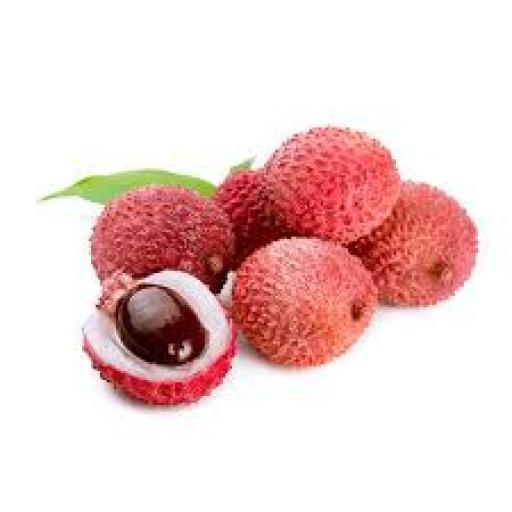lychee: (85, 271, 236, 405), (233, 237, 377, 366), (264, 128, 400, 243), (351, 183, 477, 304), (92, 187, 234, 291), (214, 171, 288, 268)
